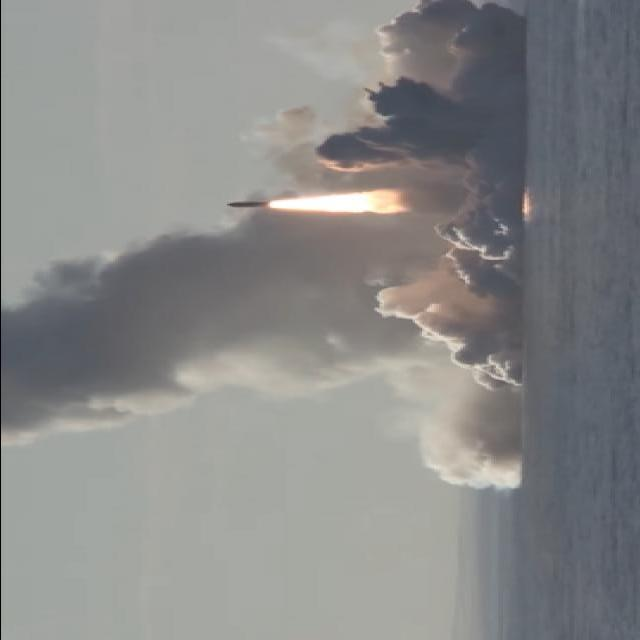missile: (227, 198, 270, 212)
